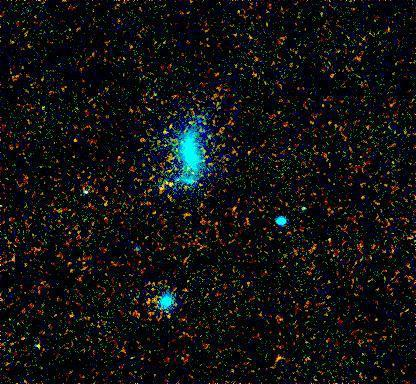star: (131, 124, 161, 154)
